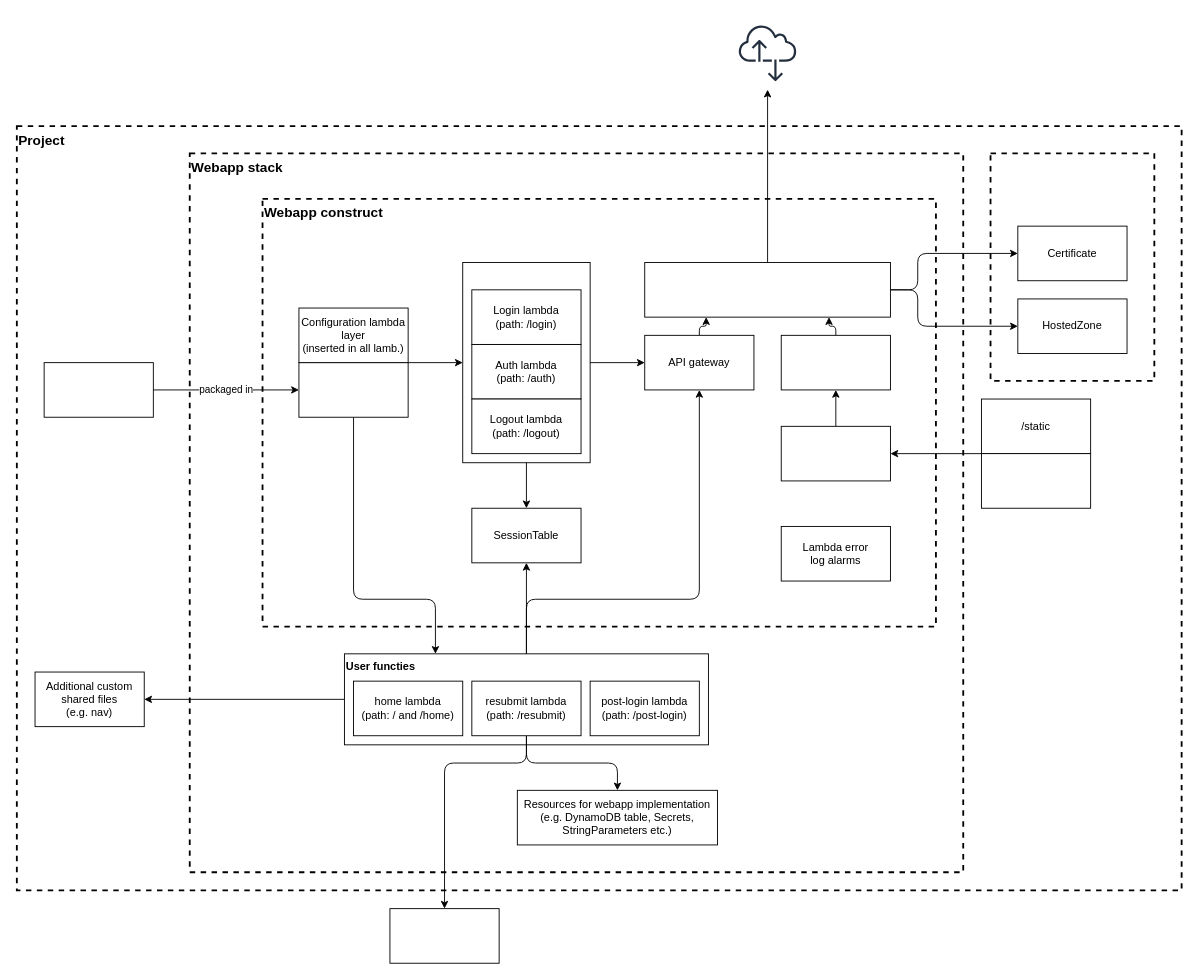
This 1198x979 diagram has some shape labels left out. Here are the shapes that lost their labels. From the top down, the box of each, then its label:
(989, 152, 1155, 381): us-east-1 stack
(644, 262, 890, 317): CloudfFront
(462, 262, 590, 463): Standard endpoints
(780, 334, 890, 390): Statics bucket
(43, 362, 153, 417): Overwrite templates
(298, 362, 408, 417): Custom lambda layer (inserted in all lamb.)
(780, 425, 890, 481): Deploy statics
(981, 453, 1091, 508): /.well-known
(389, 908, 499, 963): eform-api (external API)
